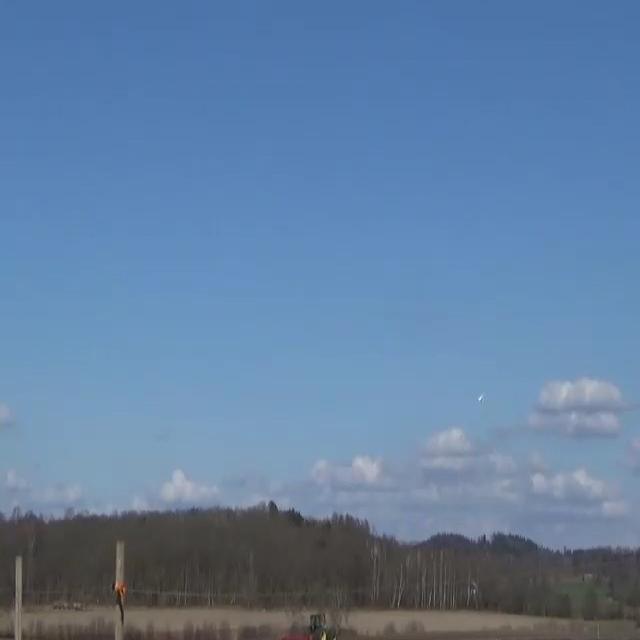drone: (478, 394, 485, 404)
